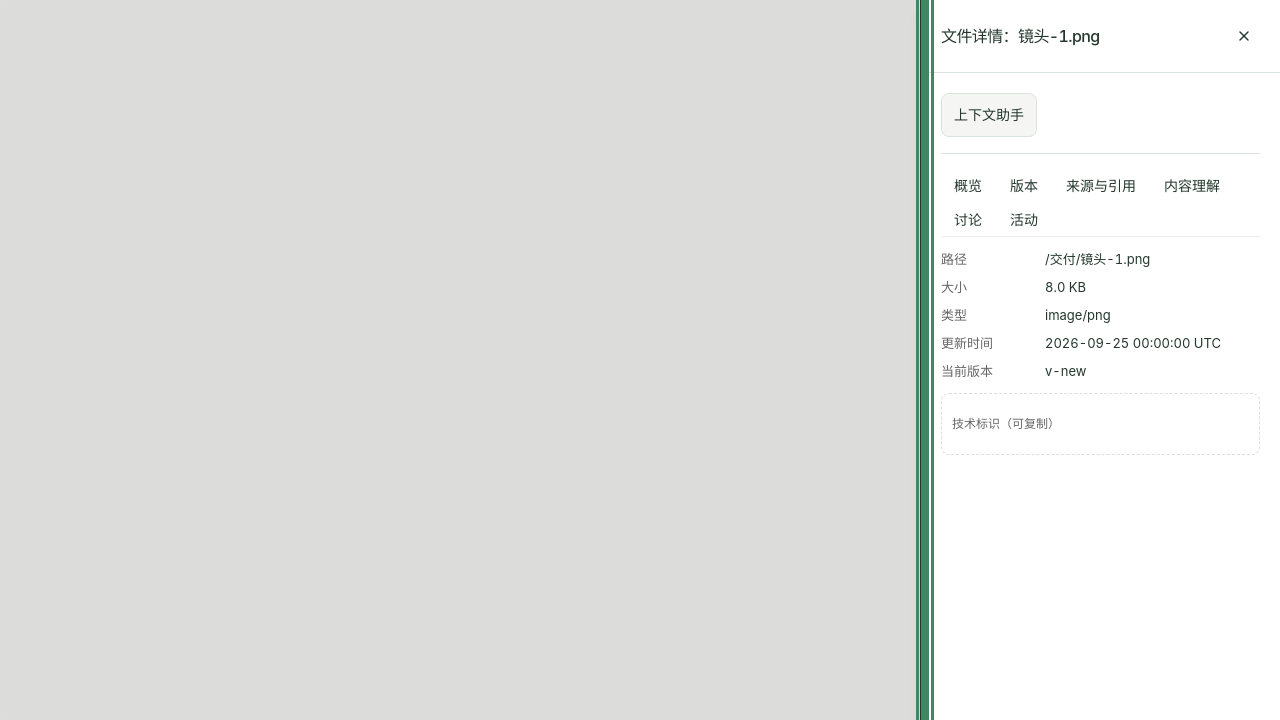
it: TestFPInformationWorkspace › pins the selected old version even though a newer version exists
The width and height of the screenshot is (1280, 720).
Click the tab "版本" at [1024, 186], box [997,170,1051,202]
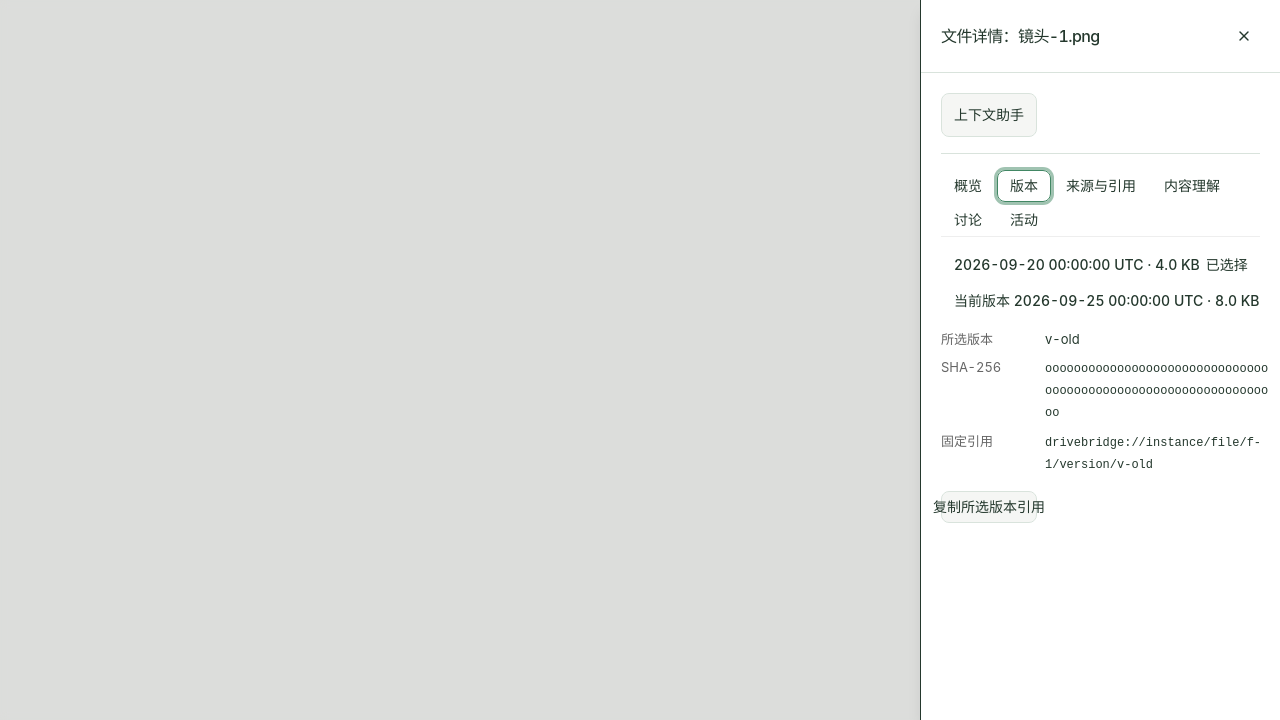
Check: the text "所选版本" shows "v-old", box [1045,331,1080,347]
